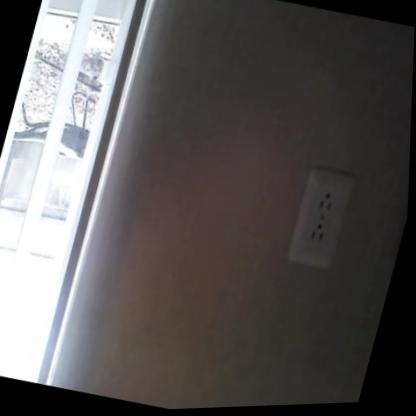OUTLET: (287, 167, 357, 270)
